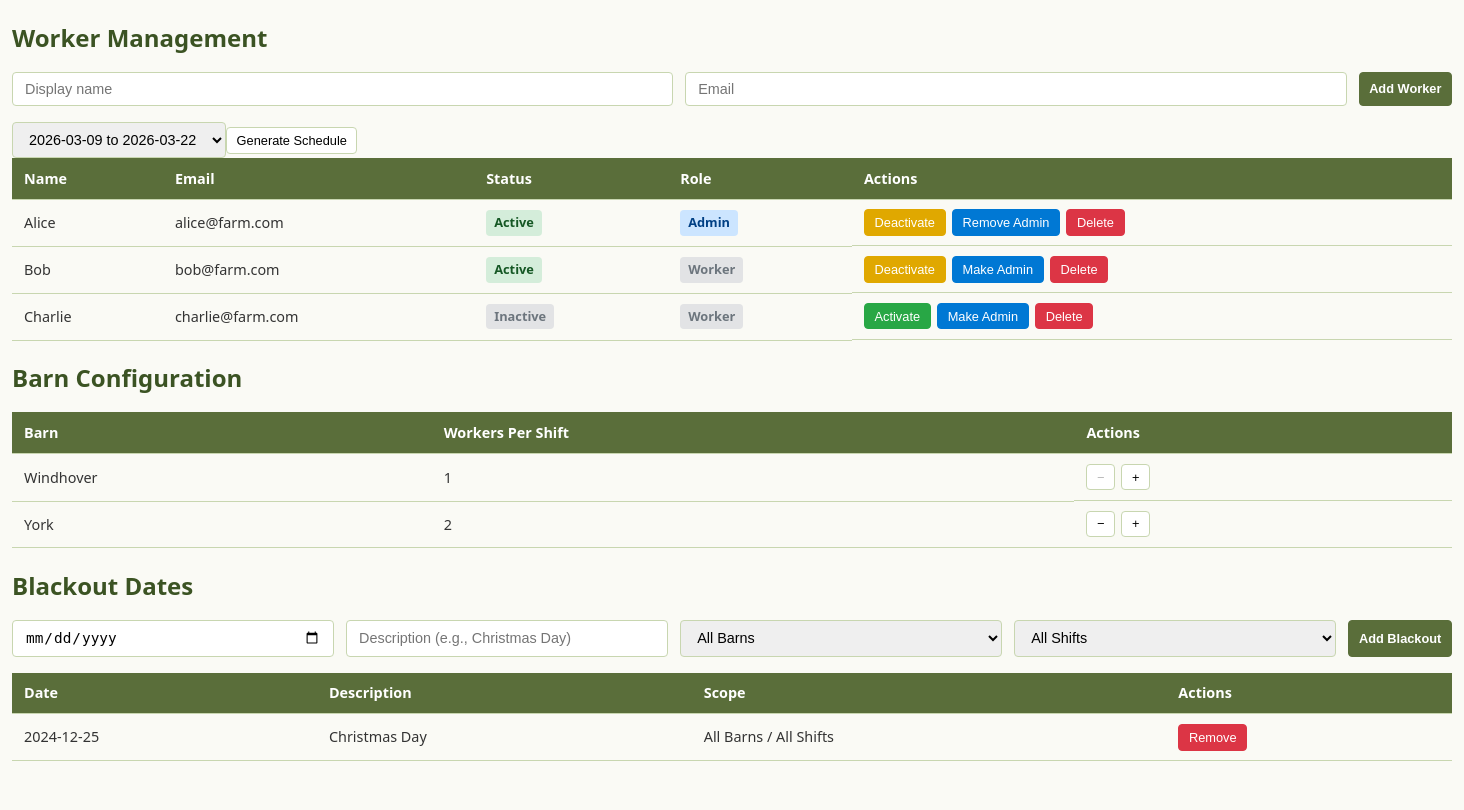
Test: AdminPage › cancels delete
Check: the text "Alice" is shown, box [12, 199, 163, 246]
Click the button "Delete" in the row of "alice@farm.com": {"x": 1095, "y": 223} [1066, 209, 1124, 236]
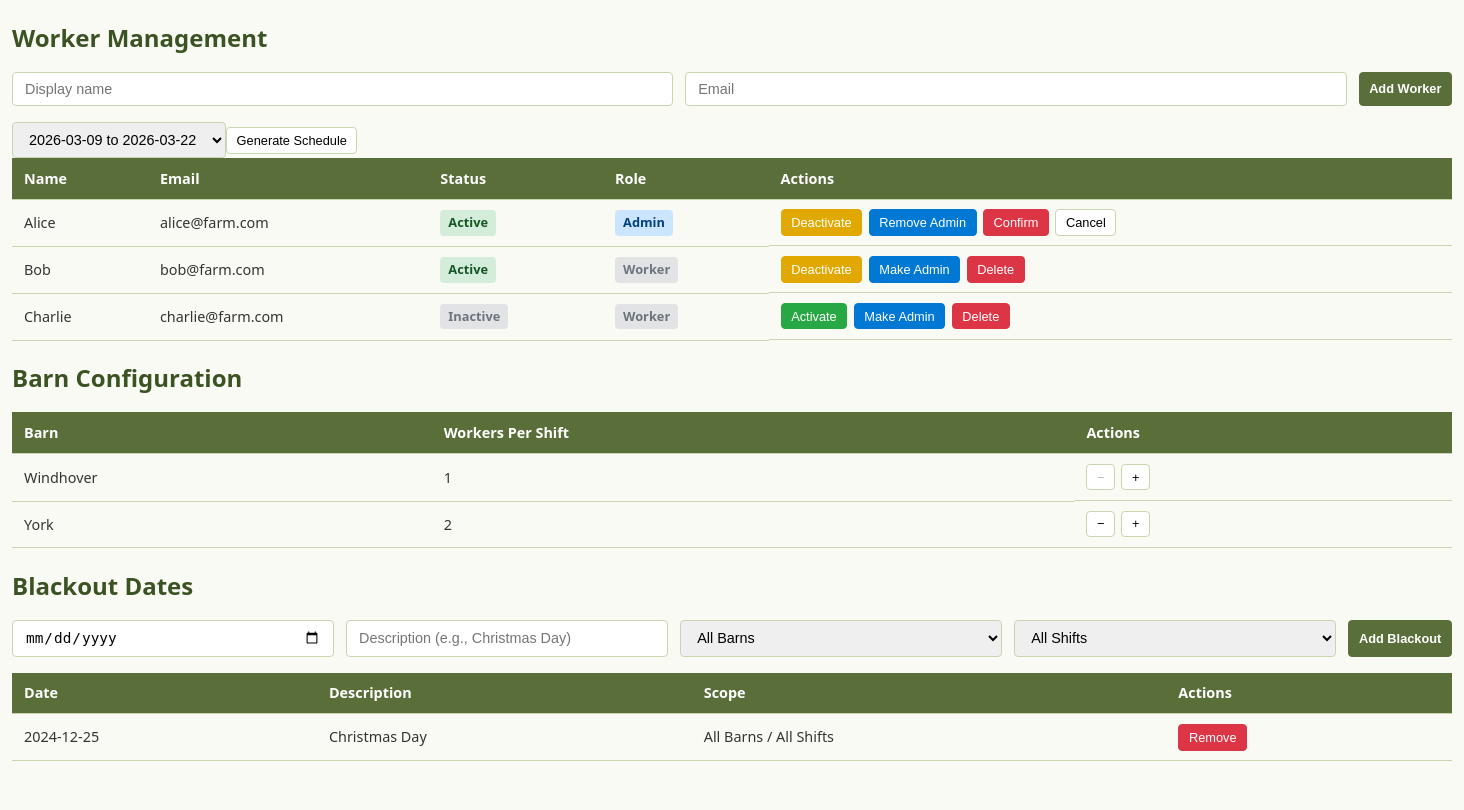
Click the button "Cancel": {"x": 1086, "y": 223} [1055, 209, 1116, 236]
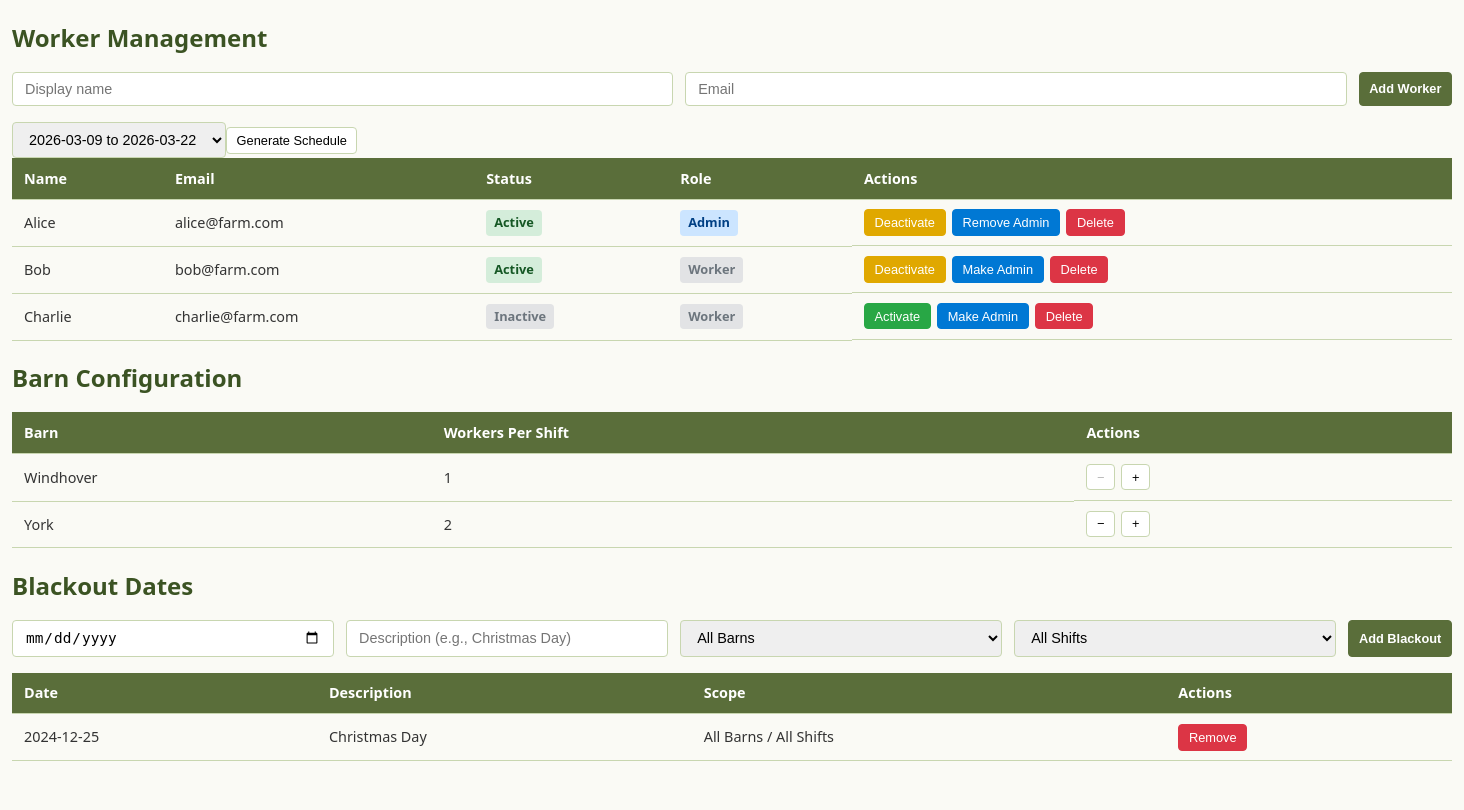
Check: the button "Confirm" is gone
